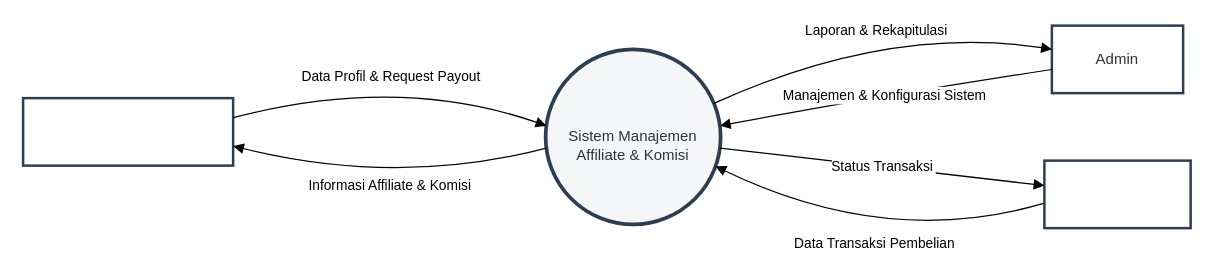
The diagram is 1213 pixels wide and 273 high, and some of its shapes have lost their labels. Here are the shapes that lost their labels. From the top down, the box of each, then its label:
(21, 96, 234, 166): User / Affiliate
(1042, 159, 1191, 229): Pembeli
